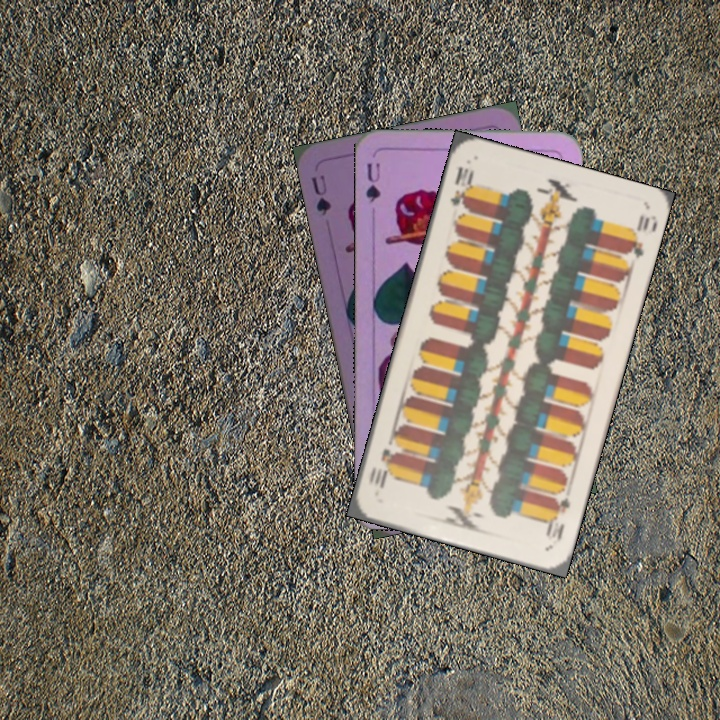E10: (541, 493, 573, 548), (446, 162, 477, 211)
GU: (307, 171, 334, 218), (362, 159, 384, 205)
